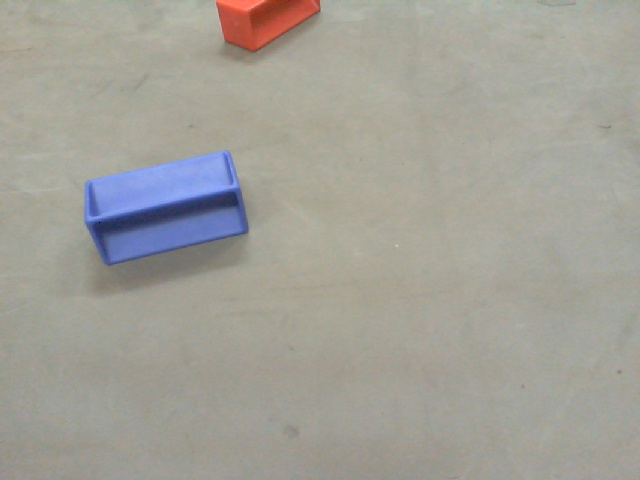BlueSample: (81, 146, 252, 267)
RedSample: (215, 1, 328, 53)
